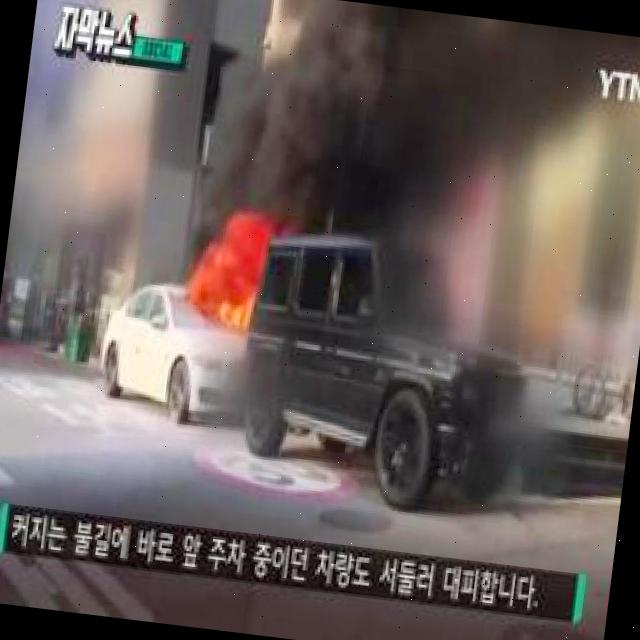fire: (200, 208, 267, 327)
